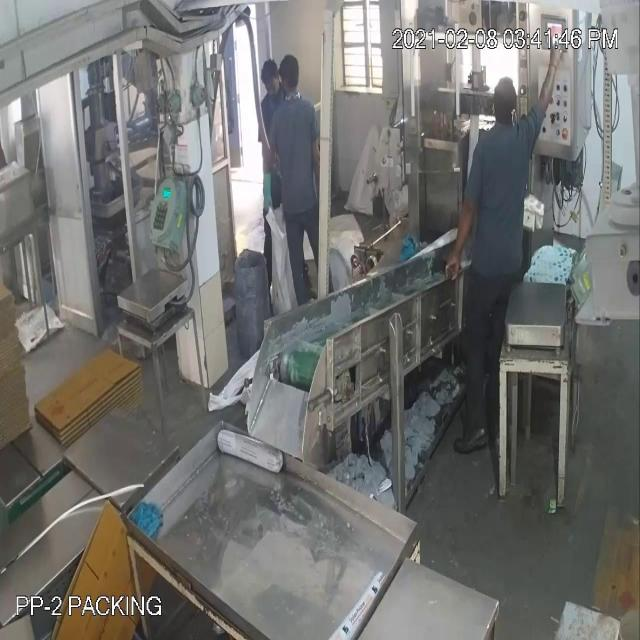No_Gloves: (35, 80, 551, 238)
